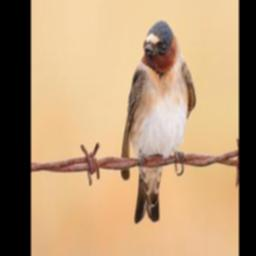Swallow: (120, 18, 196, 224)
